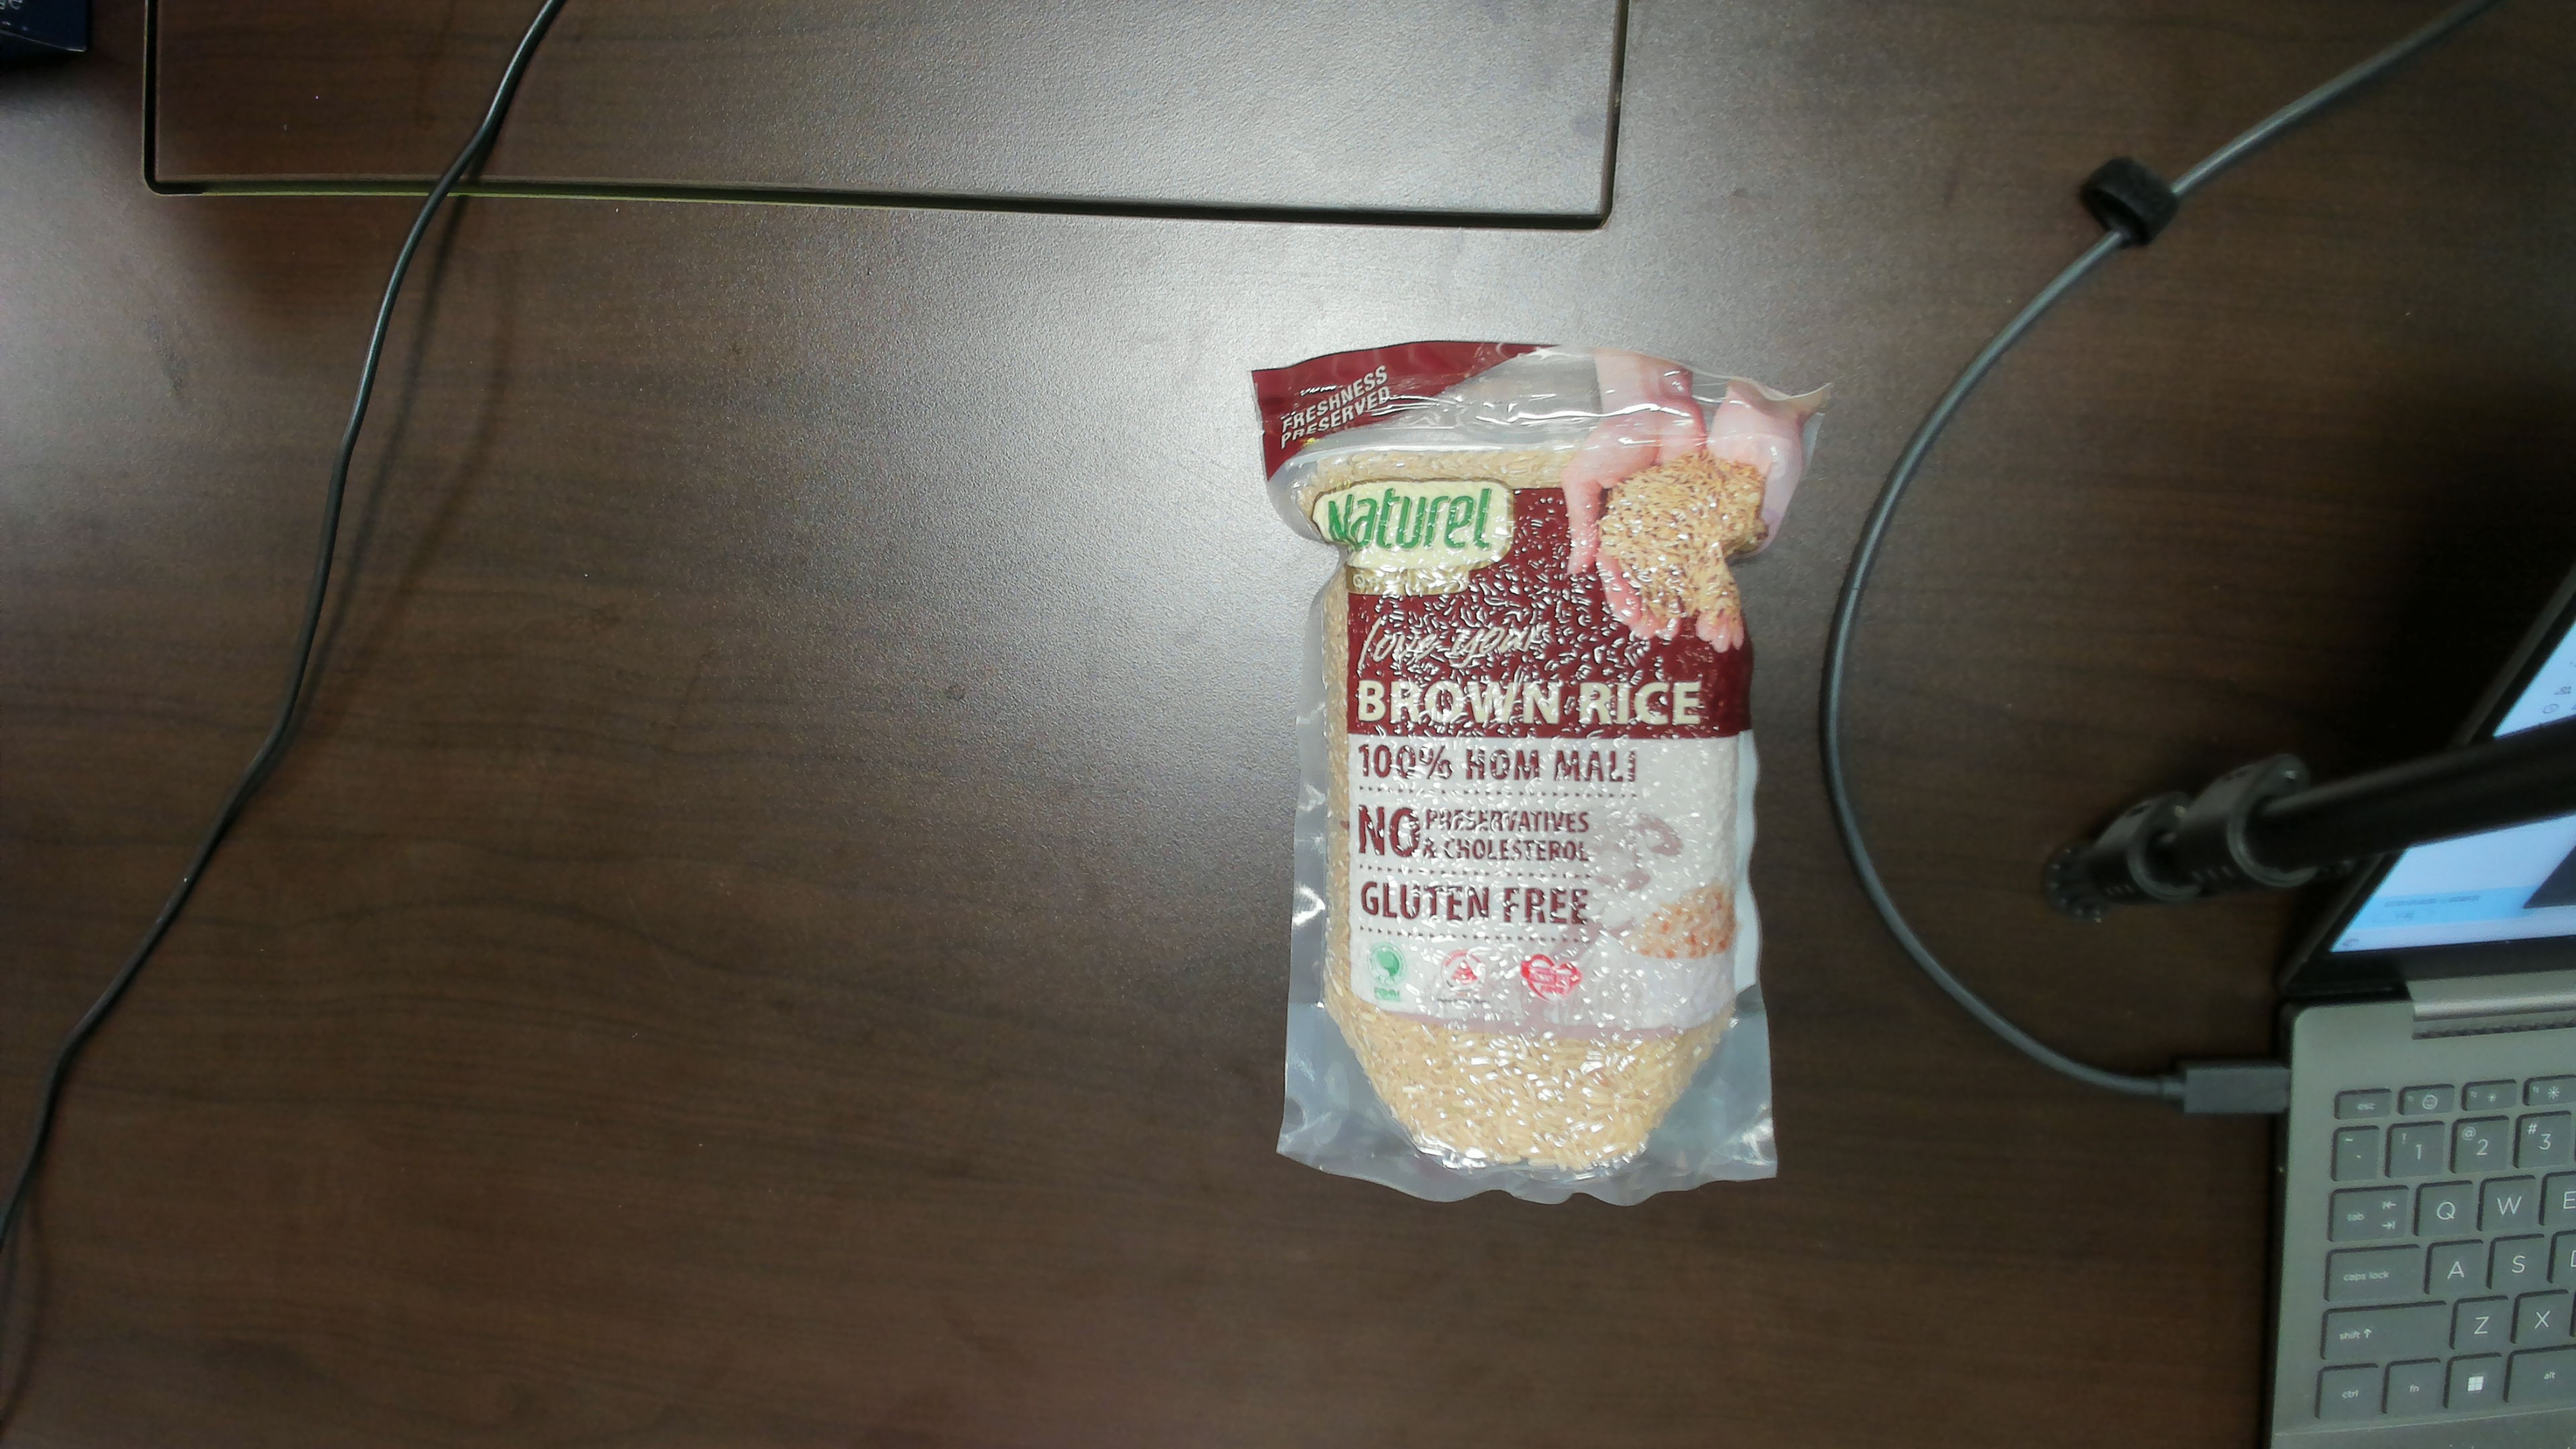Rice(brown-others)_700-799g_NonHalal_Healthy: (1302, 372, 1741, 1171)
